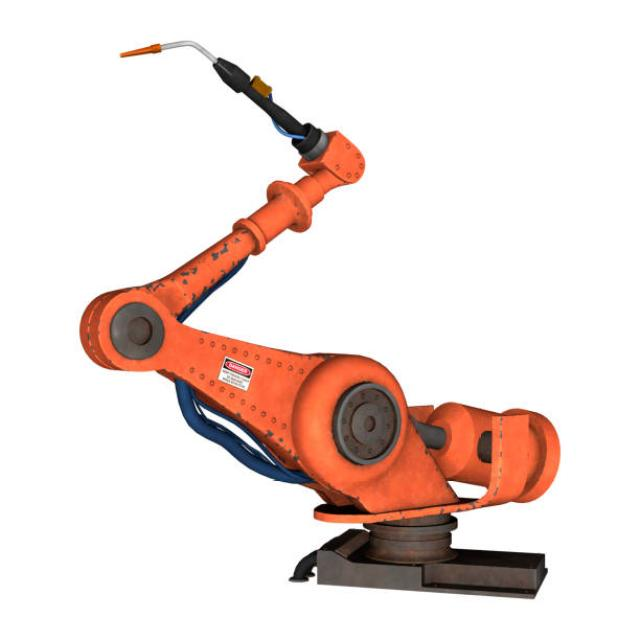Robotic-arm: (62, 21, 570, 604)
